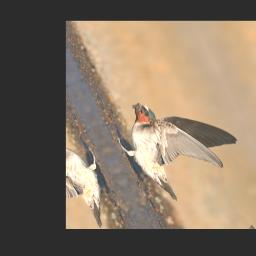Swallow: (104, 77, 255, 211)
